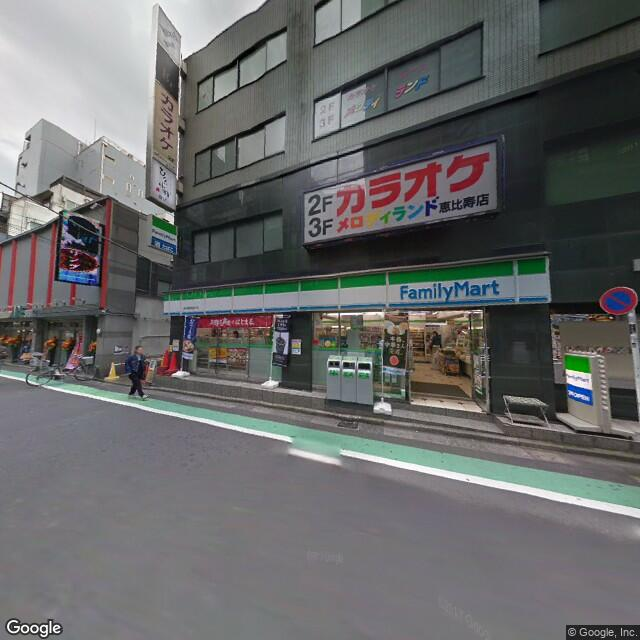family_mart: (164, 252, 551, 321), (562, 351, 597, 406), (149, 211, 178, 255)
